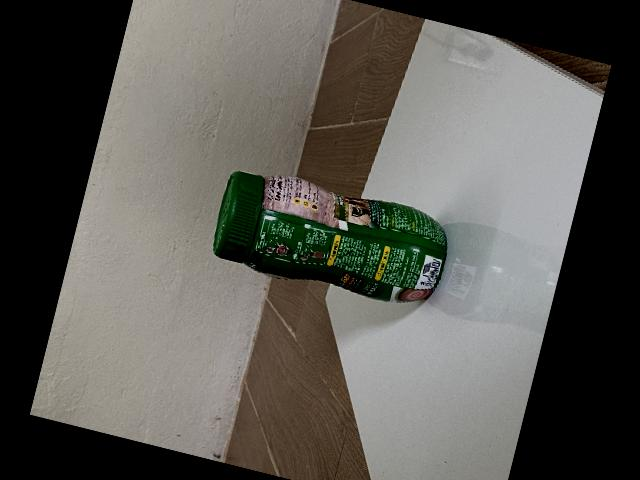milo: (213, 170, 448, 303)
